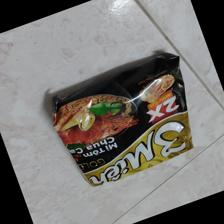3mien: (50, 53, 195, 189)
